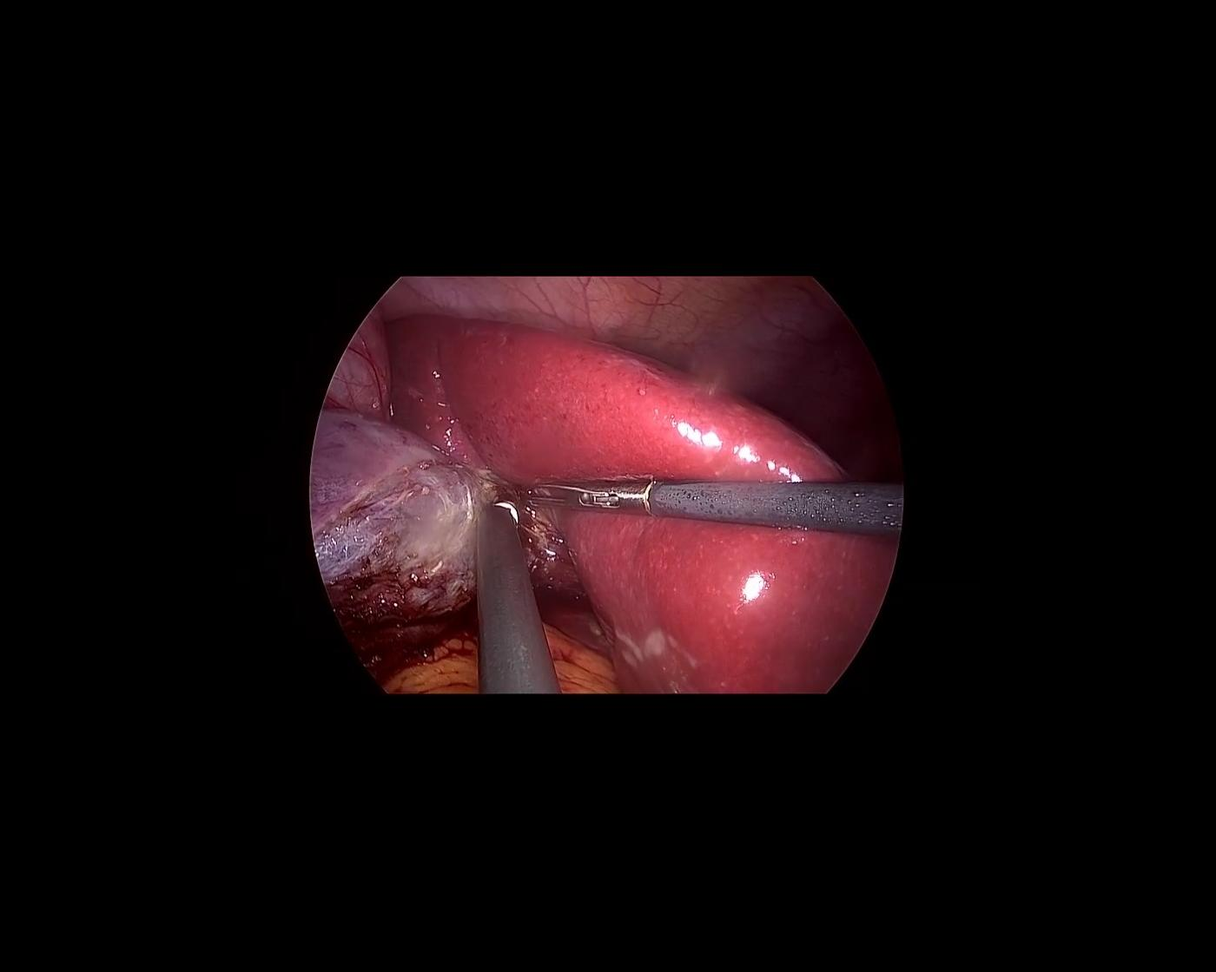Cautery: (438, 493, 565, 713)
Forceps: (533, 475, 902, 534)
Gallbladder: (310, 413, 546, 623)
Liver: (331, 164, 943, 791)
